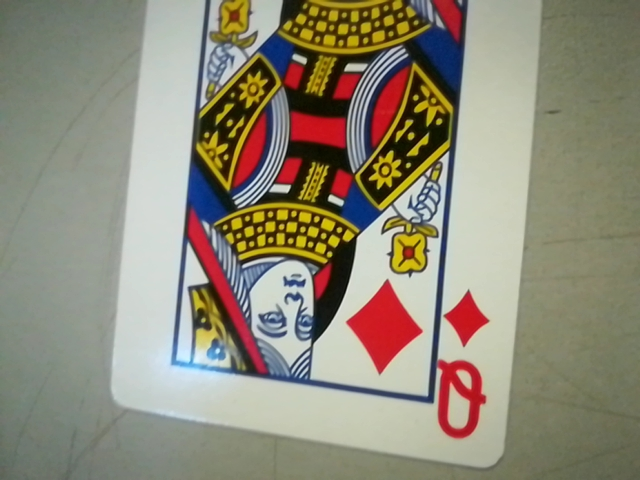fk q: (428, 289, 500, 447)
